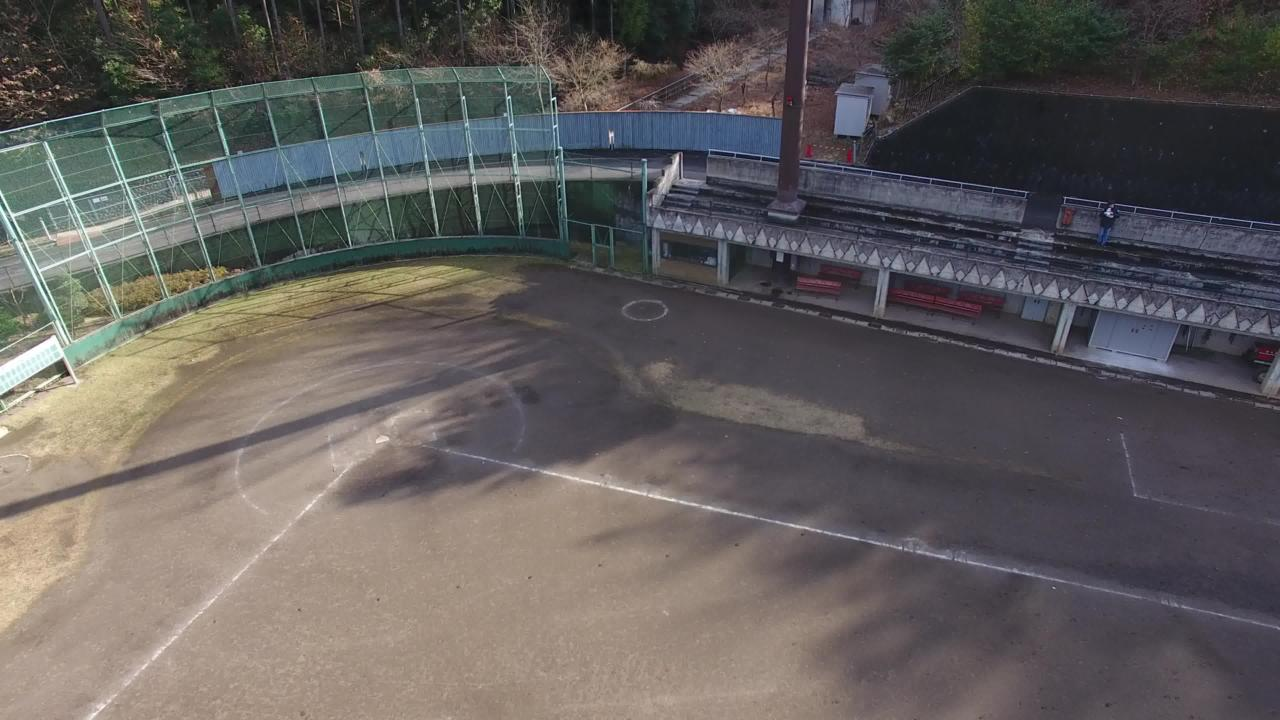person: (1097, 198, 1122, 250)
